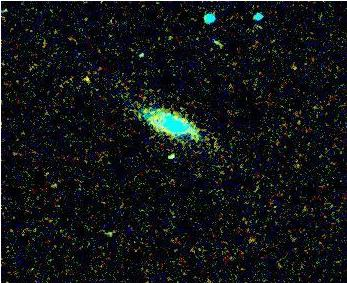star: (64, 62, 94, 92)
